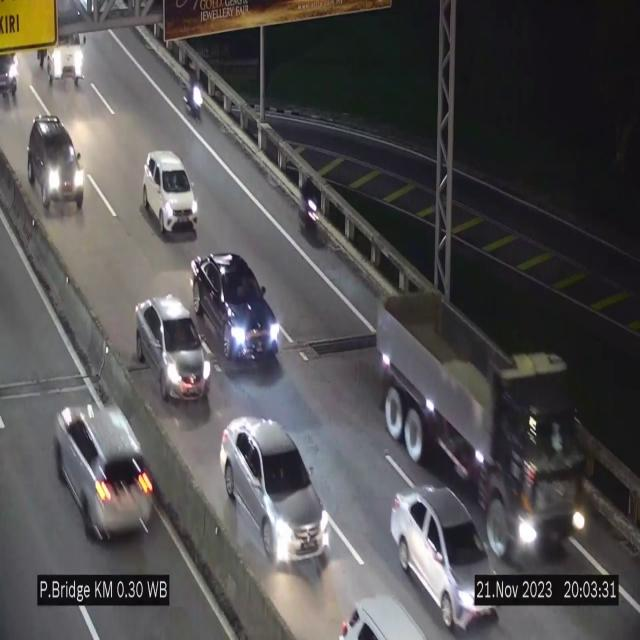Car: (44, 381, 164, 552), (220, 418, 329, 573), (391, 488, 499, 634), (187, 251, 282, 353), (135, 297, 211, 403), (25, 112, 88, 216), (143, 150, 198, 238), (0, 43, 24, 105)
Motorcycle: (297, 172, 323, 244), (181, 56, 204, 126)
Truck: (370, 285, 590, 563), (38, 25, 88, 89)
